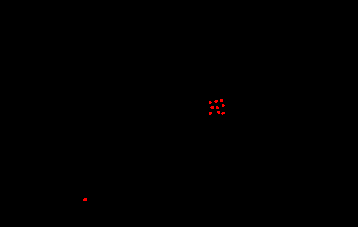Target: (214, 100, 218, 103), (210, 106, 214, 109), (221, 112, 225, 115), (83, 198, 87, 201), (220, 99, 223, 102), (209, 101, 212, 104), (222, 104, 225, 107), (216, 106, 219, 109), (217, 111, 220, 114), (209, 112, 212, 115)
